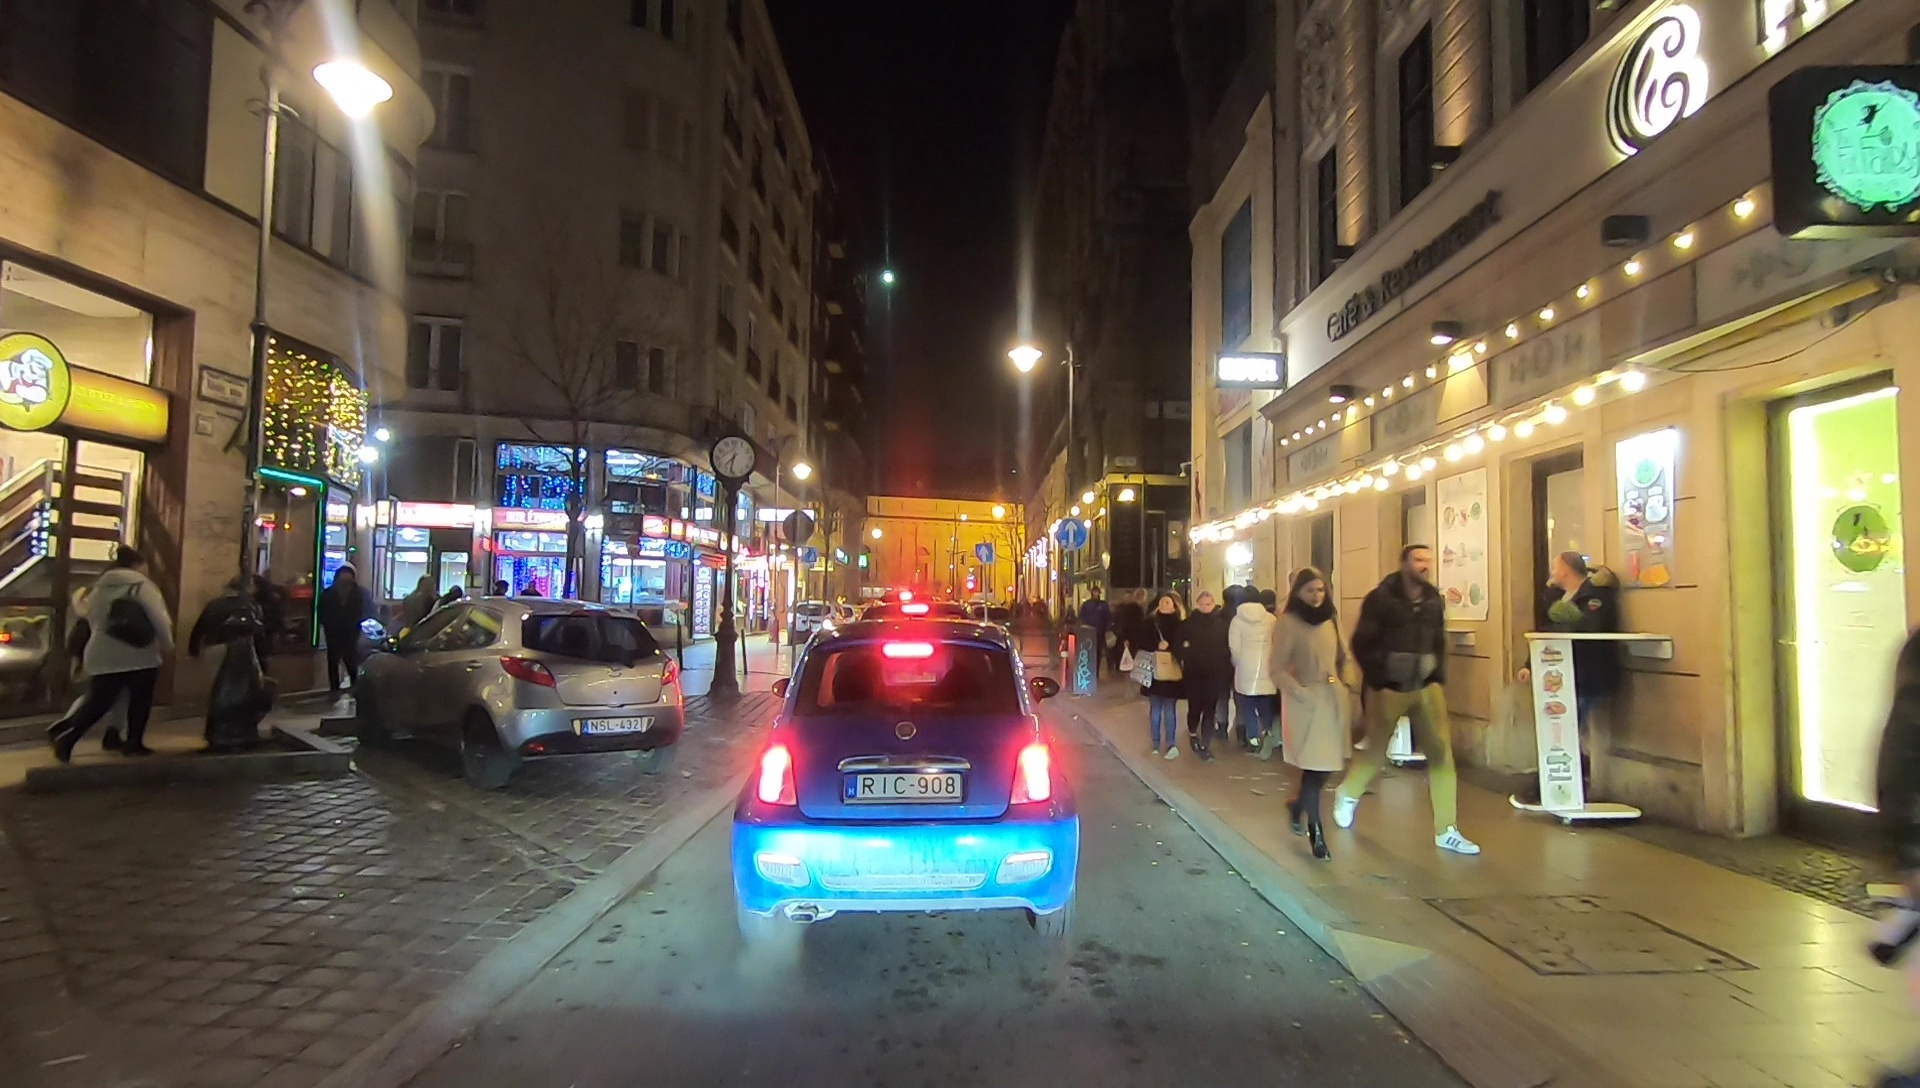person: (1356, 539, 1486, 865), (1521, 549, 1619, 808), (64, 549, 175, 767), (1275, 563, 1345, 871), (206, 558, 288, 747), (319, 561, 371, 706), (1144, 584, 1181, 760), (1236, 592, 1275, 752), (1186, 588, 1219, 763), (1079, 581, 1108, 694), (1114, 587, 1143, 678)
